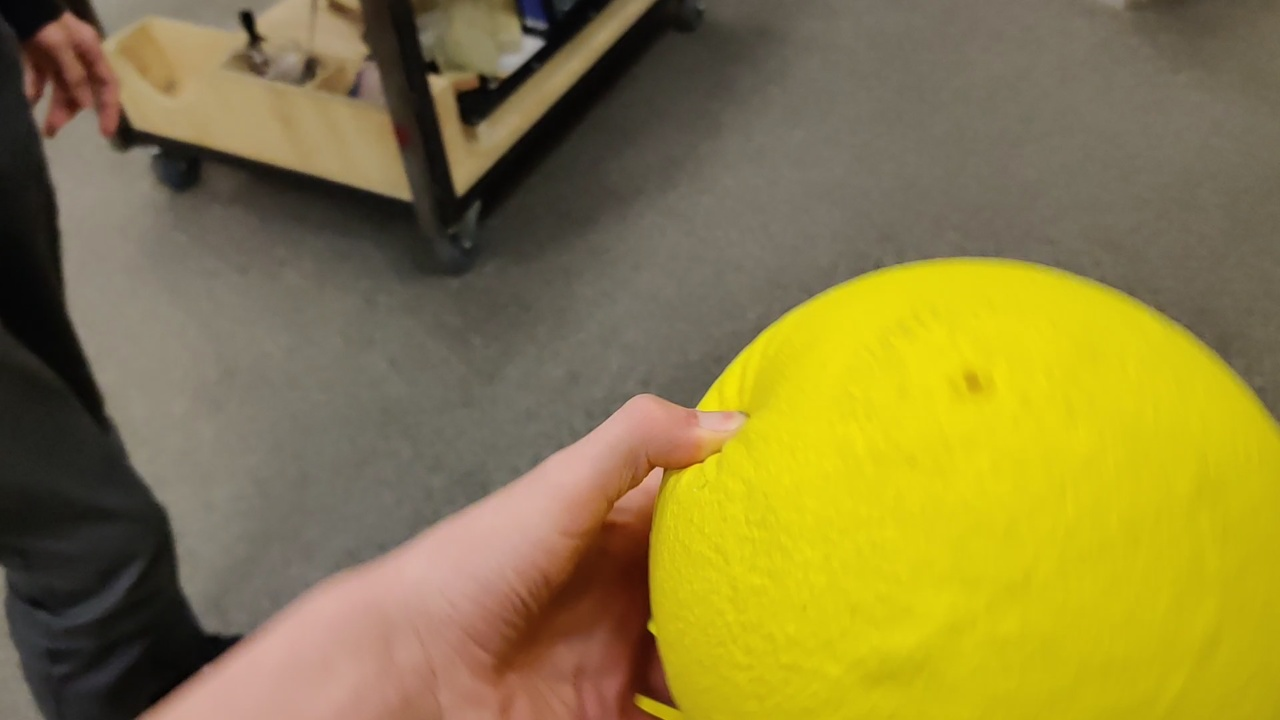Ball: (649, 253, 1280, 714)
